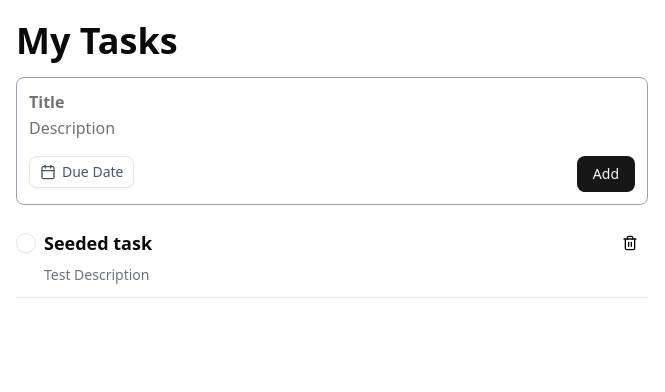
Scenario: App › loads persisted tasks and adds a task optimistically
expect the heading "My Tasks" is shown: met, box [16, 16, 178, 65]
expect the text "Seeded task" is shown: met, box [44, 231, 152, 255]
Type "New task 1234" into the text box labelled "Title". click: (332, 102)
box: [29, 90, 635, 114]
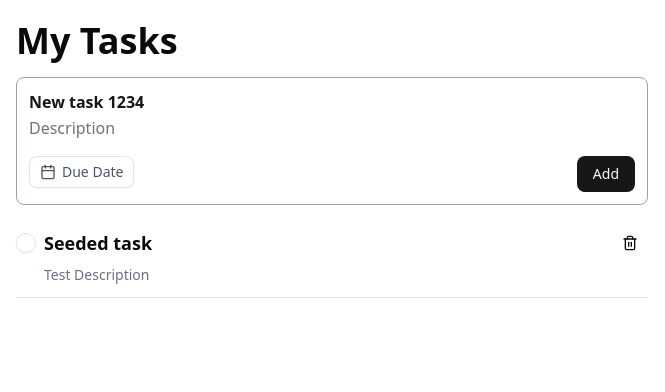
Type "Do something" into the text box labelled "Description". click: (332, 128)
box: [29, 116, 635, 140]
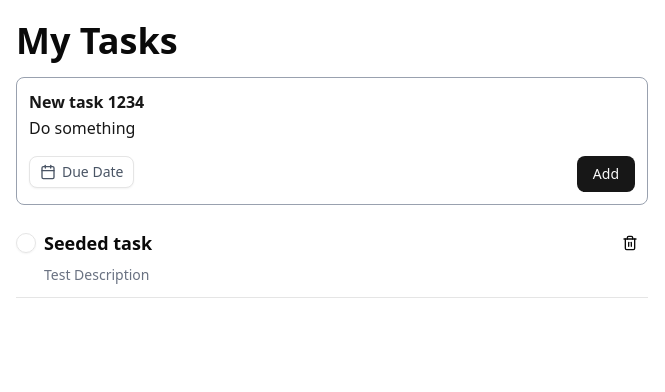
Click the button "Add". click: click(606, 174)
box: [577, 156, 635, 192]
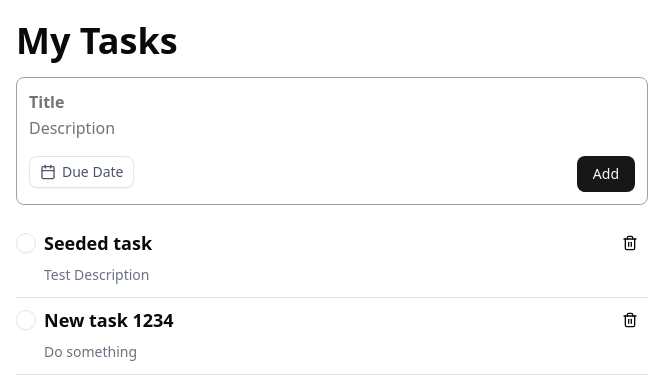
expect the text "New task 1234" is shown: met, box [44, 308, 174, 332]
